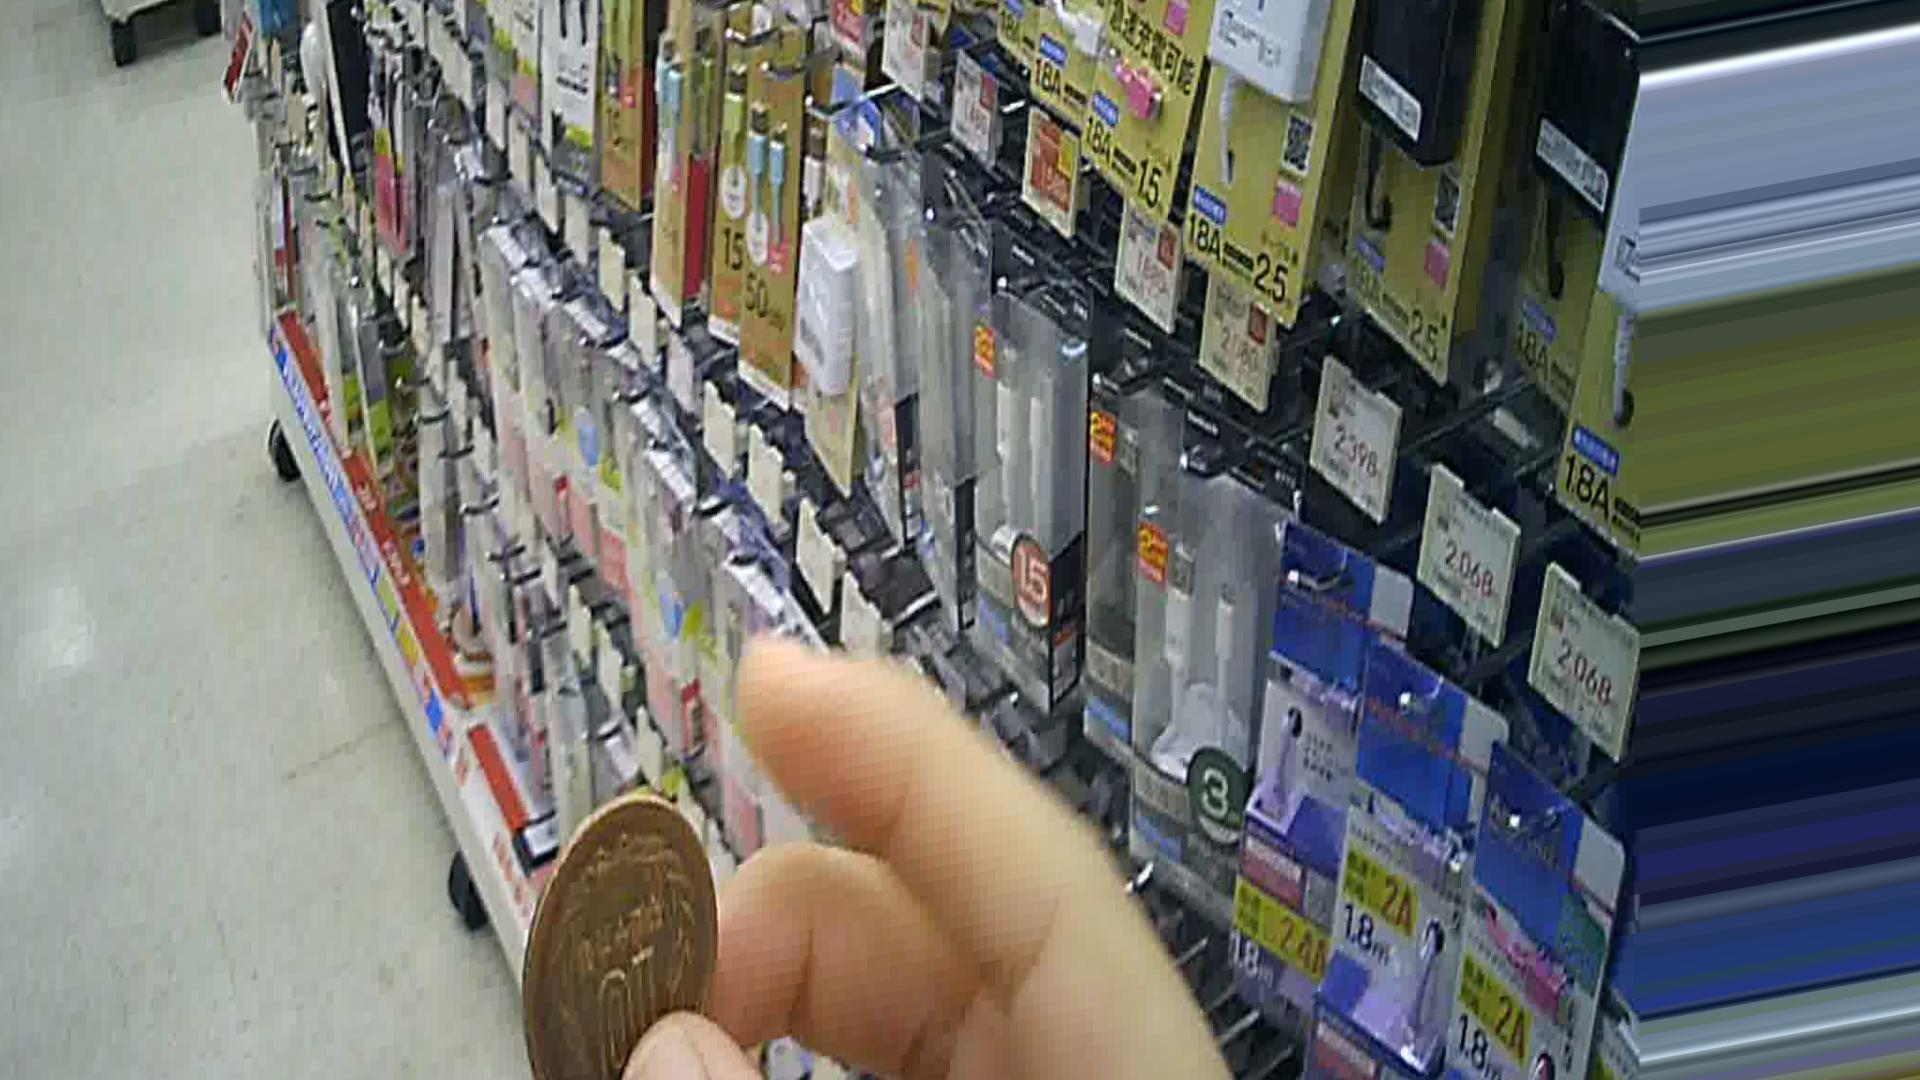10 Yen: (517, 799, 708, 1076)
